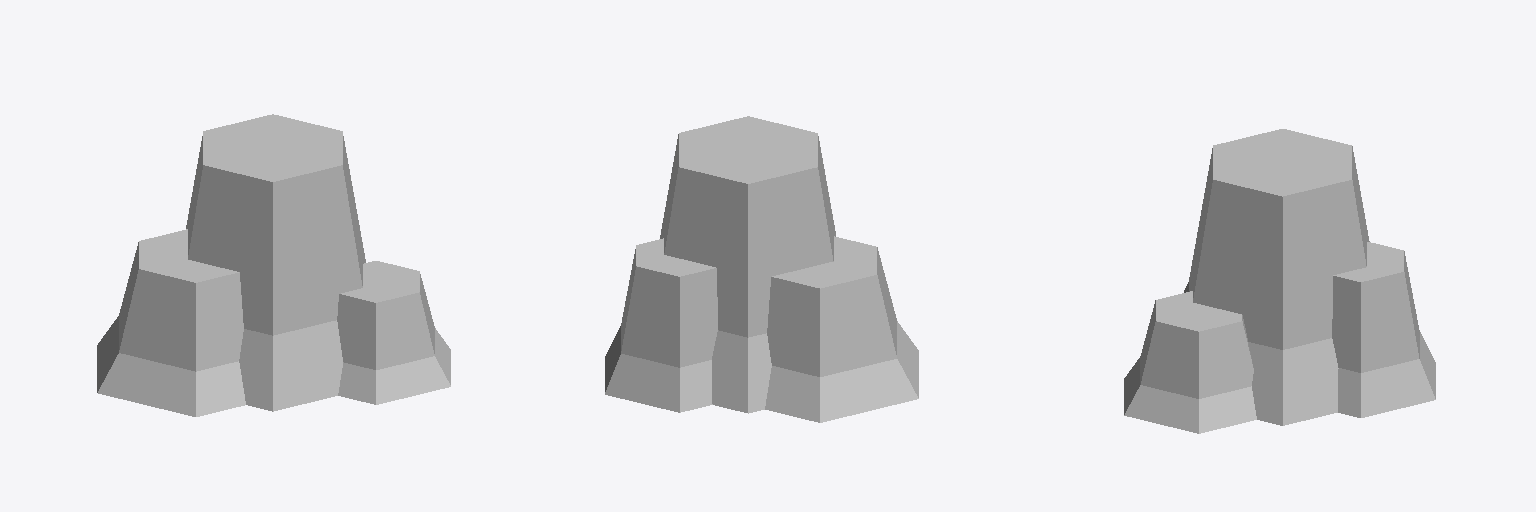
File: rocksTall.obj
The picture shows the model from 3 angles: view 1: azimuth 30°, elevation 25°; view 2: azimuth 150°, elevation 25°; view 3: azimuth 270°, elevation 25°; orthographic projection.
Parts seen in each view (by area): view 1: rocksTall; view 2: rocksTall; view 3: rocksTall.
Boxes of the visible parts, <box> form: rocksTall: <box>97,114,450,416</box>; rocksTall: <box>605,116,918,422</box>; rocksTall: <box>1124,129,1435,433</box>.
Bounding box in the file's own units: 0.9342 × 0.59 × 0.8148.